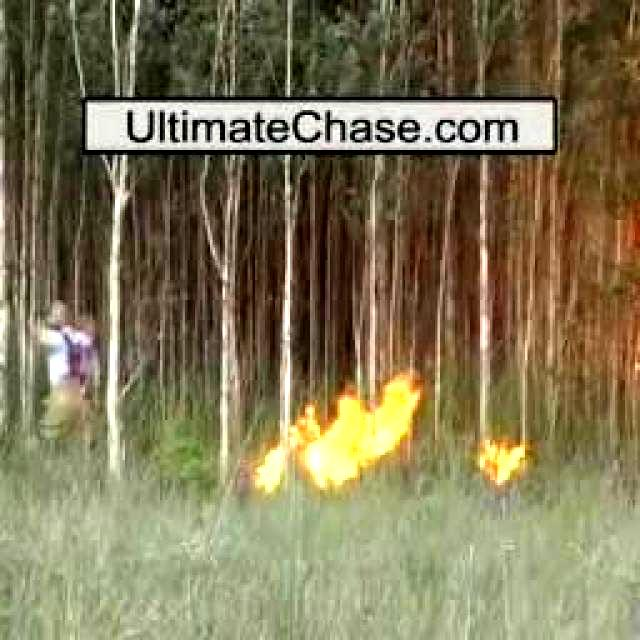fire: (302, 378, 424, 487), (478, 445, 542, 493), (254, 436, 290, 504)
